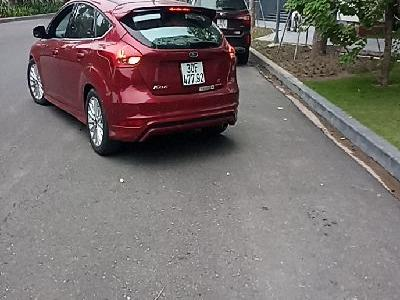car: (179, 62, 207, 86)
